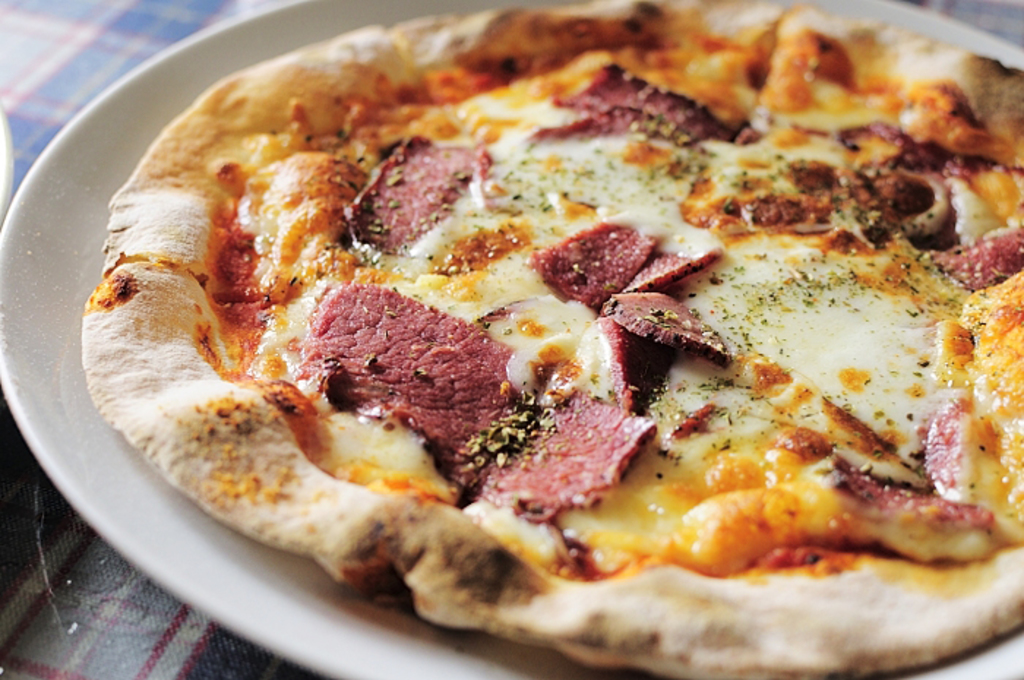Pizza: (68, 0, 983, 655)
